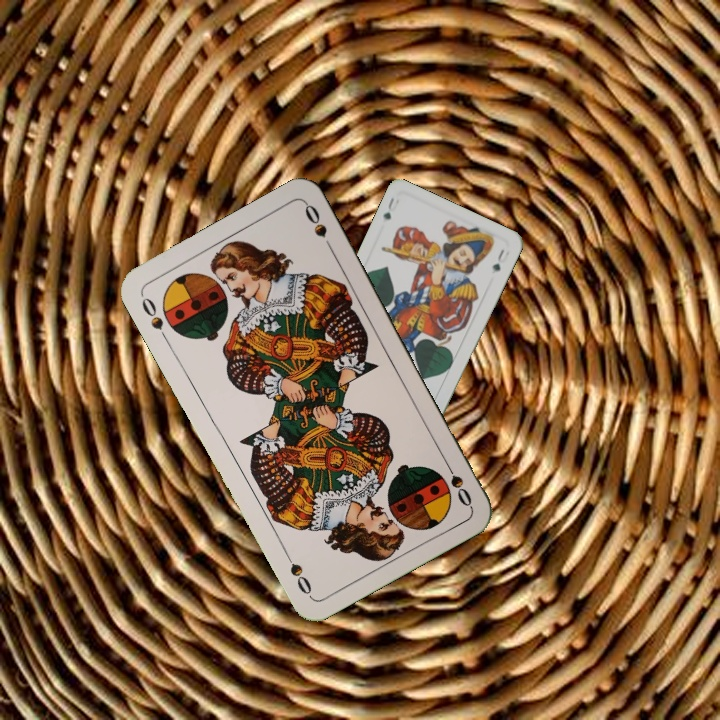GU: (379, 193, 397, 222)
SO: (439, 455, 475, 510), (137, 291, 172, 345)
